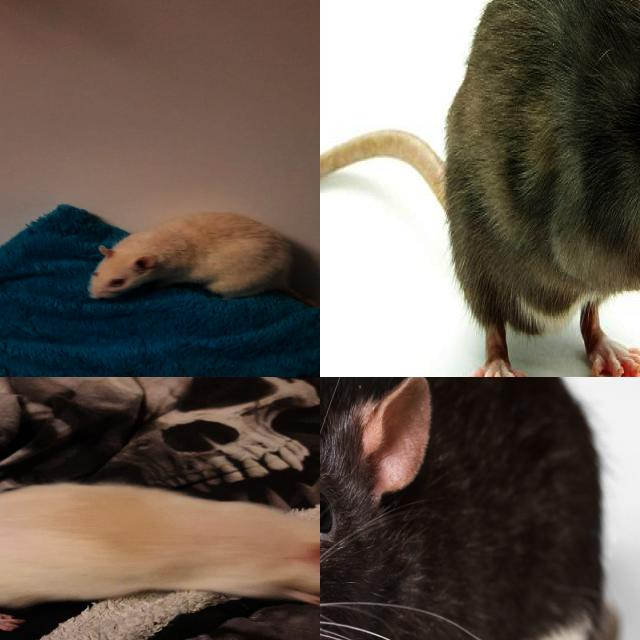rat: (320, 377, 601, 640), (444, 0, 640, 377), (0, 477, 320, 630), (89, 210, 302, 301)
